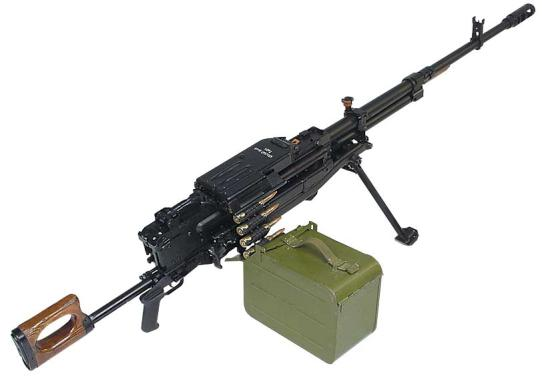rifle: (10, 10, 538, 371)
